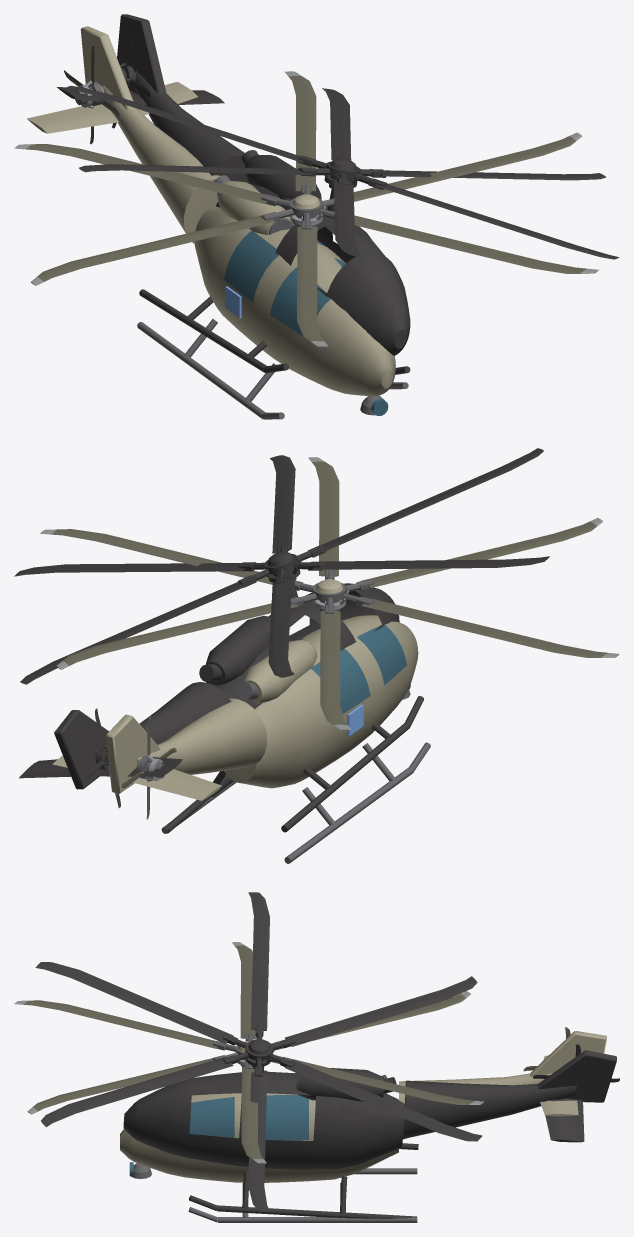
File: gunship__ah_6m_little_bird.glb
The picture shows the model from 3 angles, top to bottom: view 1: azimuth 30°, elevation 25°; view 2: azimuth 150°, elevation 25°; view 3: azimuth 270°, elevation 25°; orthographic projection. The views are drawn at different scales.
Visible parts, largest first — view 1: Wreck, Fuselage_Mesh, Rotor_Main_Mesh, Landing_Gear_Mesh, Engines_Mesh, Rotor_Tail_Mesh; view 2: Wreck, Fuselage_Mesh, Rotor_Main_Mesh, Engines_Mesh, Landing_Gear_Mesh, Rotor_Tail_Mesh; view 3: Wreck, Fuselage_Mesh, Rotor_Main_Mesh, Landing_Gear_Mesh.
Part boxes in pixels (x1,y1,x2,y2): Wreck: [57, 14, 619, 374]; Fuselage_Mesh: [27, 26, 395, 415]; Rotor_Main_Mesh: [14, 71, 598, 346]; Landing_Gear_Mesh: [137, 319, 408, 419]; Engines_Mesh: [214, 175, 293, 234]; Rotor_Tail_Mesh: [64, 44, 120, 144]; Wreck: [14, 448, 549, 833]; Fuselage_Mesh: [52, 615, 418, 800]; Rotor_Main_Mesh: [40, 457, 619, 730]; Engines_Mesh: [237, 640, 316, 704]; Landing_Gear_Mesh: [161, 742, 430, 863]; Rotor_Tail_Mesh: [121, 716, 176, 819]; Wreck: [35, 892, 619, 1218]; Fuselage_Mesh: [120, 1031, 606, 1182]; Rotor_Main_Mesh: [14, 942, 484, 1163]; Landing_Gear_Mesh: [188, 1168, 417, 1222].
Size of what is drawn, in the model's own units: 8.74 by 3.87 by 9.71.
